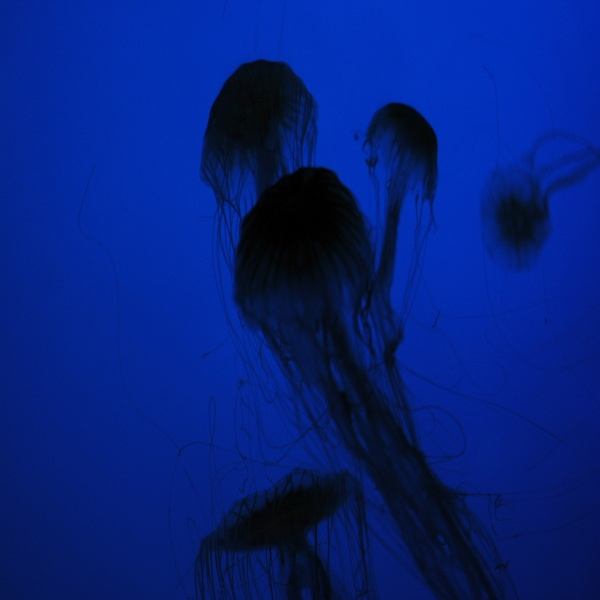Jellyfish: (225, 164, 529, 599), (196, 53, 418, 488), (189, 462, 375, 599), (360, 93, 445, 357), (478, 125, 599, 275)
